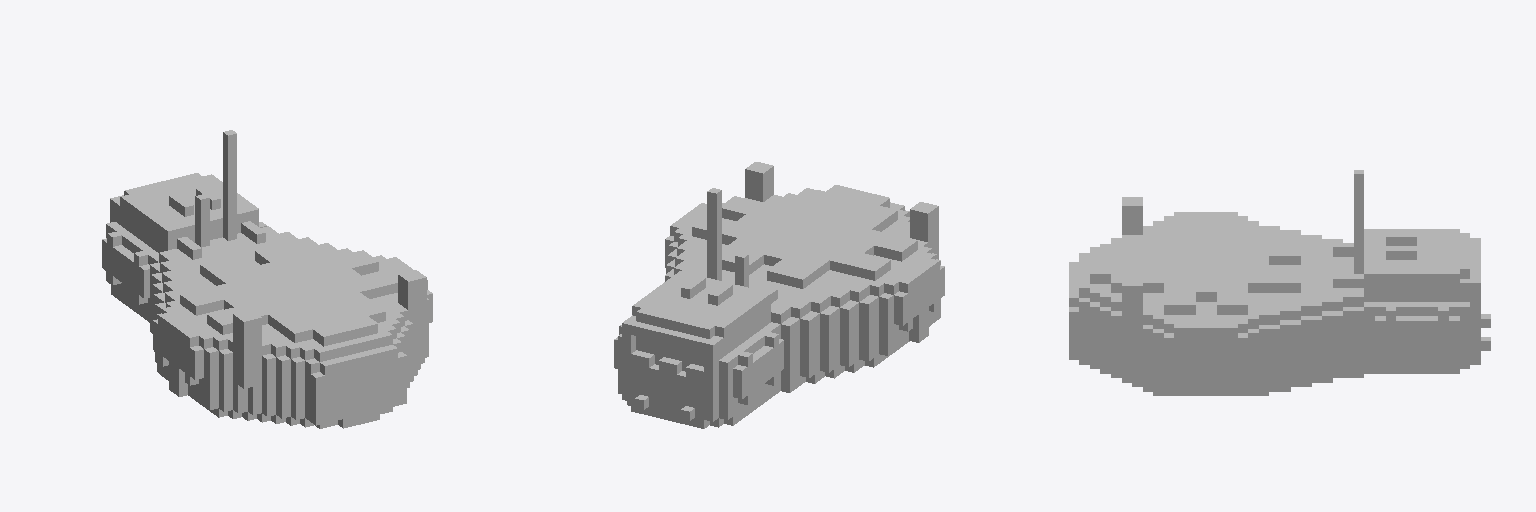
The model's file is Body.obj.
The picture shows the model from 3 angles: view 1: azimuth 30°, elevation 25°; view 2: azimuth 150°, elevation 25°; view 3: azimuth 270°, elevation 25°; orthographic projection.
Parts seen in each view (by area): view 1: object 1; view 2: object 1; view 3: object 1.
Boxes of the visible parts, x1=… form: object 1: x1=102, y1=130, x2=432, y2=428; object 1: x1=614, y1=162, x2=944, y2=428; object 1: x1=1069, y1=170, x2=1490, y2=395.
Bounding box in the file's own units: 2.6 × 1.9 × 4.